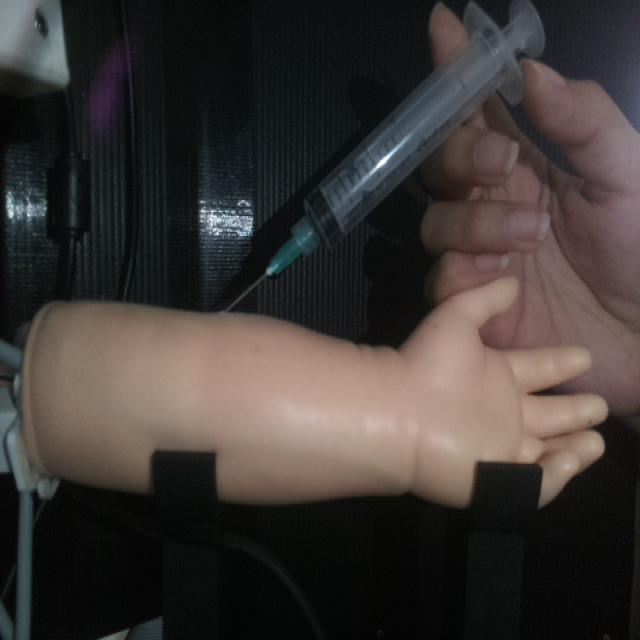Above 30 degrees: (218, 0, 546, 312)
